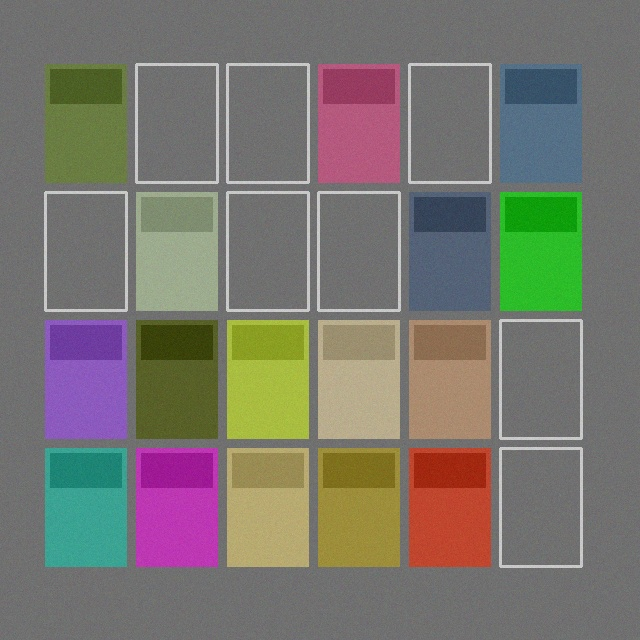space-empty: (136, 64, 217, 182), (227, 64, 308, 182), (409, 64, 490, 182), (45, 192, 126, 310), (227, 192, 308, 310), (318, 192, 399, 310), (500, 320, 581, 438), (500, 448, 581, 566)
space-occupied: (45, 64, 126, 182), (318, 64, 399, 182), (500, 64, 581, 182), (136, 192, 217, 310), (409, 192, 490, 310), (500, 192, 581, 310), (45, 320, 126, 438), (136, 320, 217, 438), (227, 320, 308, 438), (318, 320, 399, 438), (409, 320, 490, 438), (45, 448, 126, 566), (136, 448, 217, 566), (227, 448, 308, 566), (318, 448, 399, 566), (409, 448, 490, 566)
